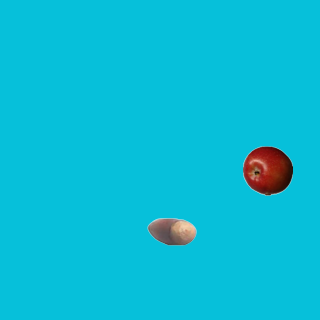Apple Braeburn: (242, 145, 292, 195)
Hazelnut: (146, 206, 196, 256)
